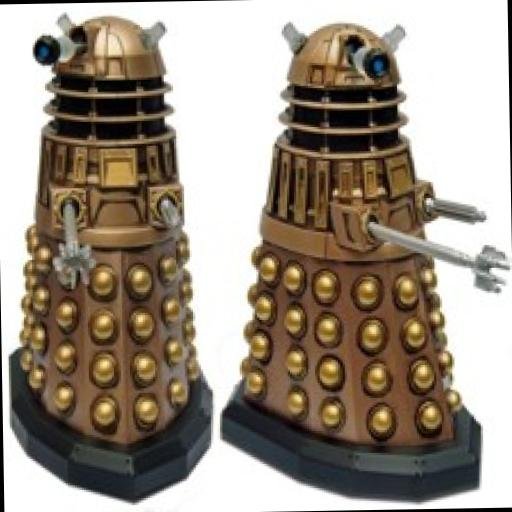dalek: (211, 10, 512, 510), (2, 10, 214, 504)
